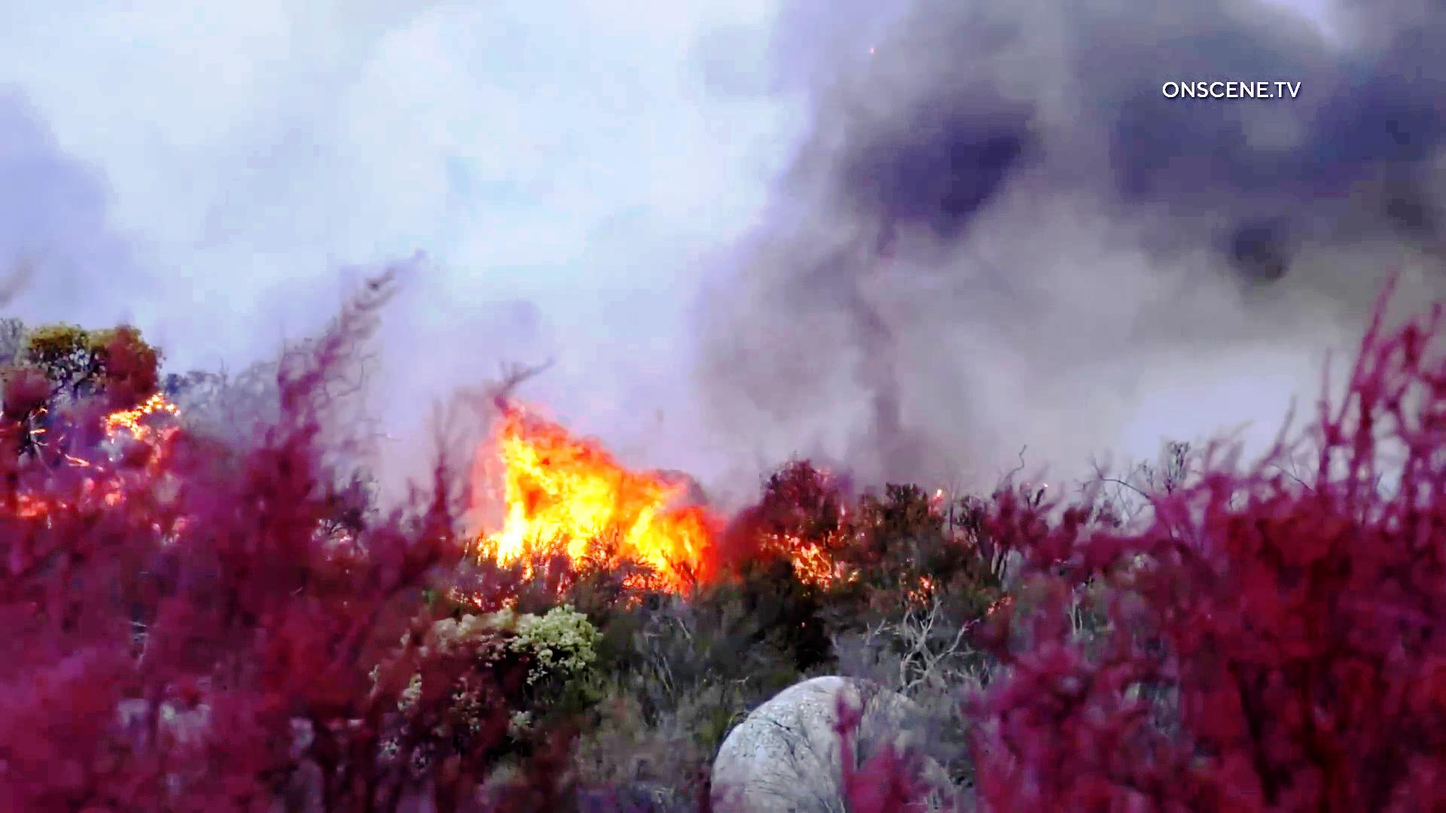smoke: (646, 6, 1446, 371), (445, 394, 734, 598)
